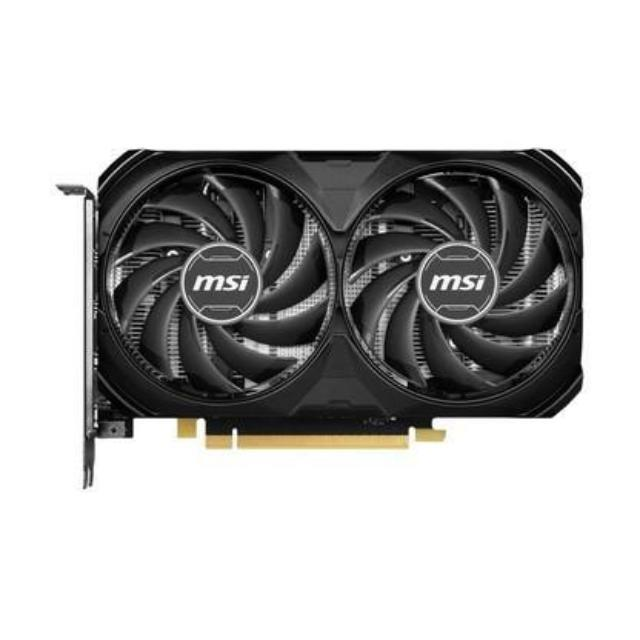GPU: (77, 145, 591, 453)
